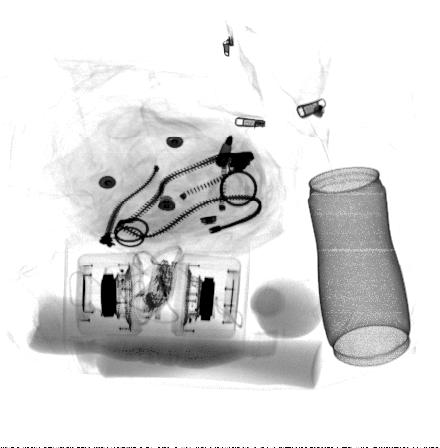Bullet: (214, 133, 234, 169)
